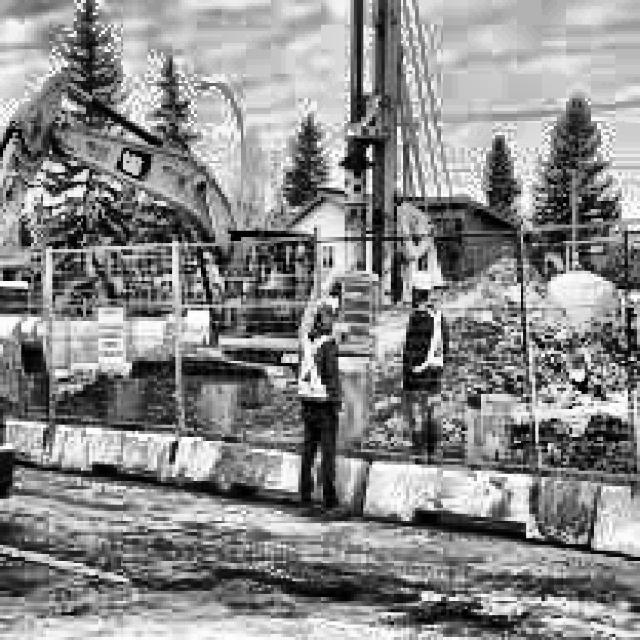excavator: (0, 74, 382, 375)
